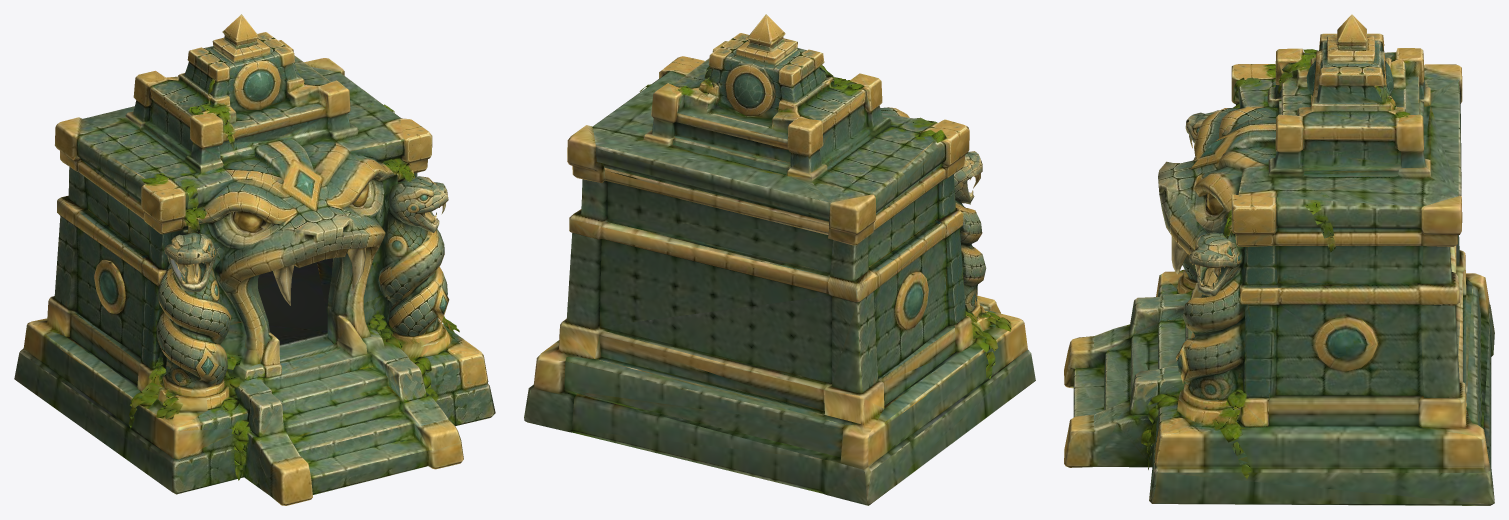
The model's file is descent_temple.glb.
3 views of the same model, side by side, from view 1: azimuth 30°, elevation 25°; view 2: azimuth 150°, elevation 25°; view 3: azimuth 270°, elevation 25° (orthographic). The views are drawn at different scales.
Visible parts, largest first — view 1: Mesh_0; view 2: Mesh_0; view 3: Mesh_0.
Part boxes in pixels (x1,y1,x2,y2): Mesh_0: (14, 14, 495, 505); Mesh_0: (524, 14, 1035, 505); Mesh_0: (1064, 14, 1494, 505).
Size of the model in its own units: 7.75 by 8.5 by 8.14.
Materials: 1 (1 with a texture image).
